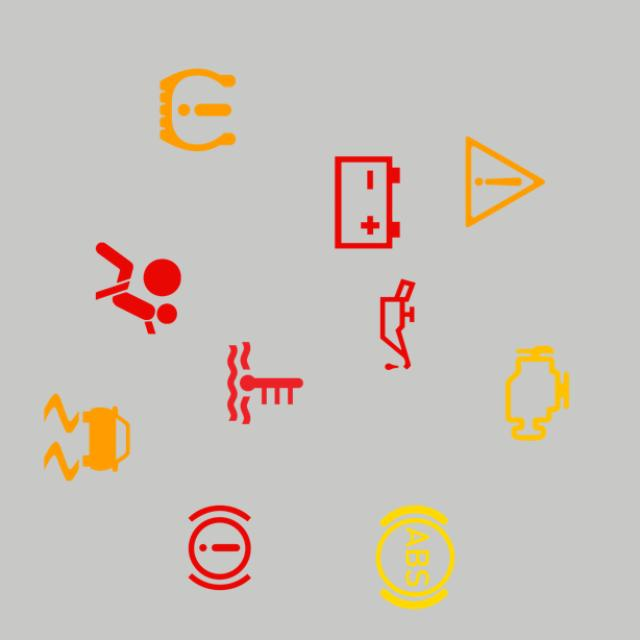Anti Lock Braking System: (359, 500, 472, 614)
Braking System Issue: (163, 491, 276, 605)
Charging System Issue: (311, 146, 424, 259)
Check Engine: (481, 337, 594, 450)
Electronic Stability Problem -ESP-: (30, 381, 144, 494)
Engine Overheating Warning Light: (209, 326, 322, 440)
Low Engine Oil Warning Light: (341, 268, 454, 381)
Low Tire Pressure Warning Light: (141, 53, 254, 167)
Master warning light: (448, 125, 562, 239)
SRS-Airbag: (81, 231, 195, 345)
